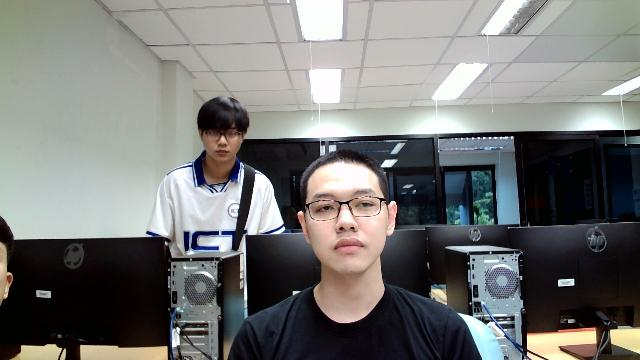fokus: (296, 153, 398, 268)
